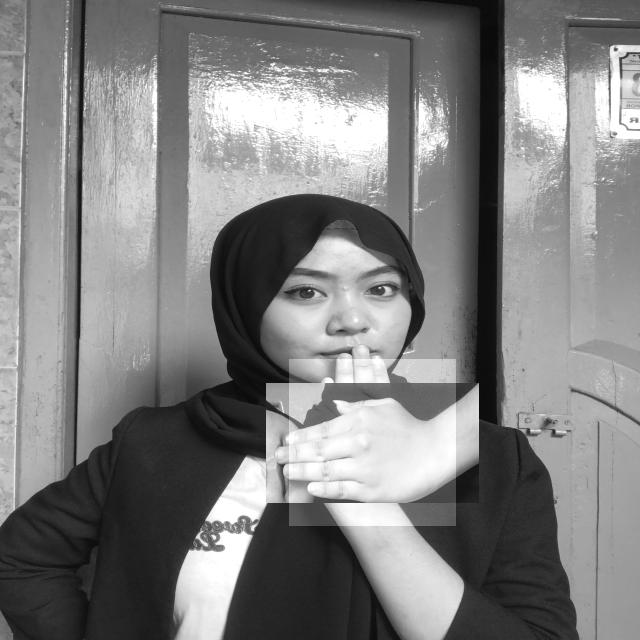ganteng: (289, 359, 456, 526)
